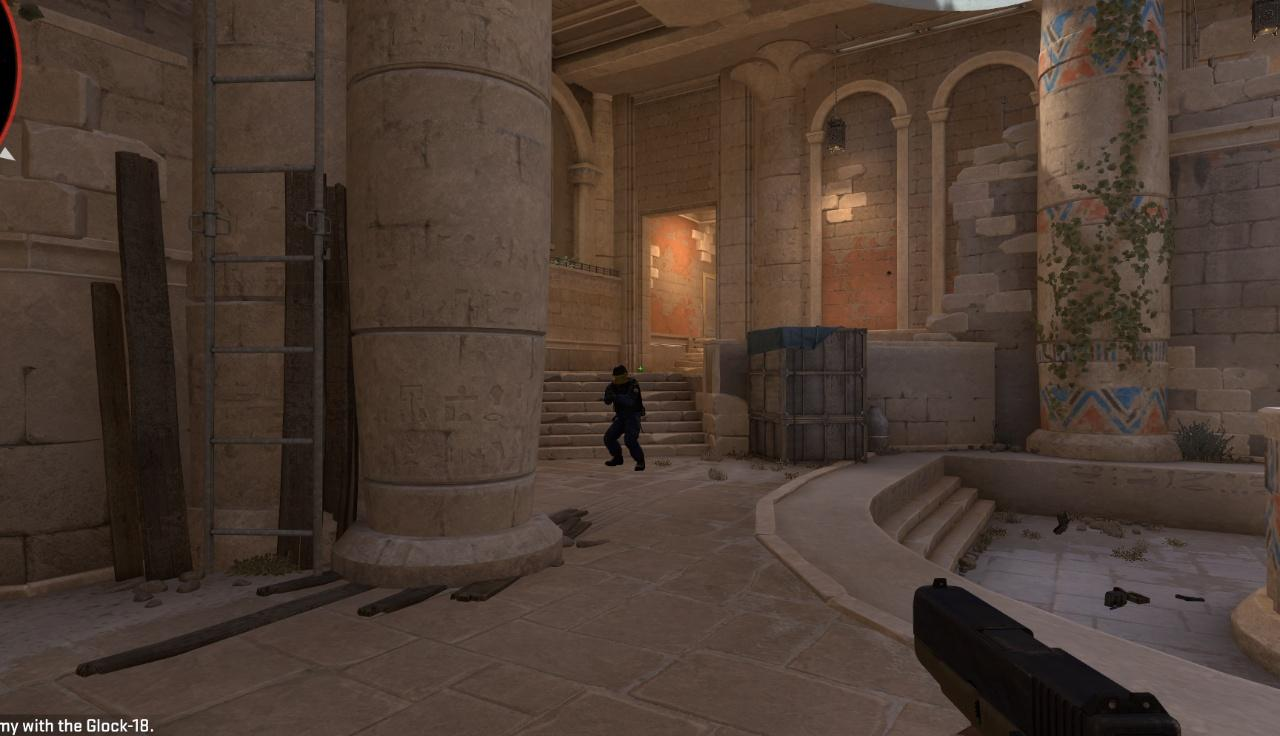ct: (607, 365, 644, 471)
cthead: (613, 365, 628, 383)
pistol: (906, 575, 1184, 736)
